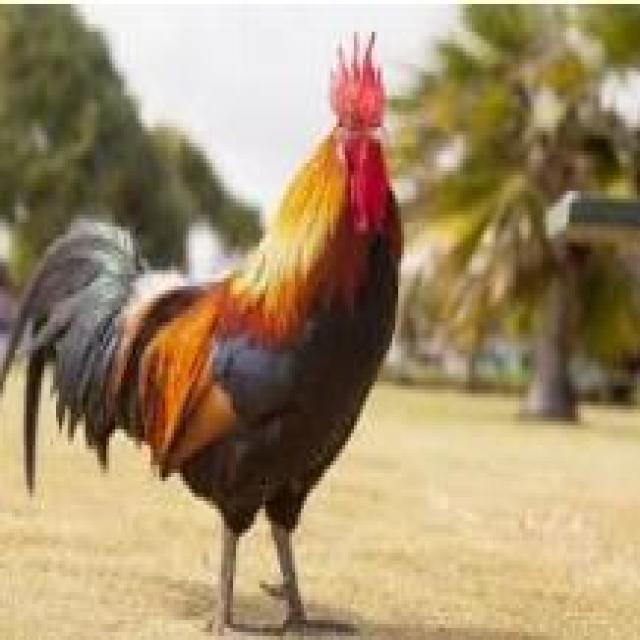Healthy: (0, 24, 410, 640)
